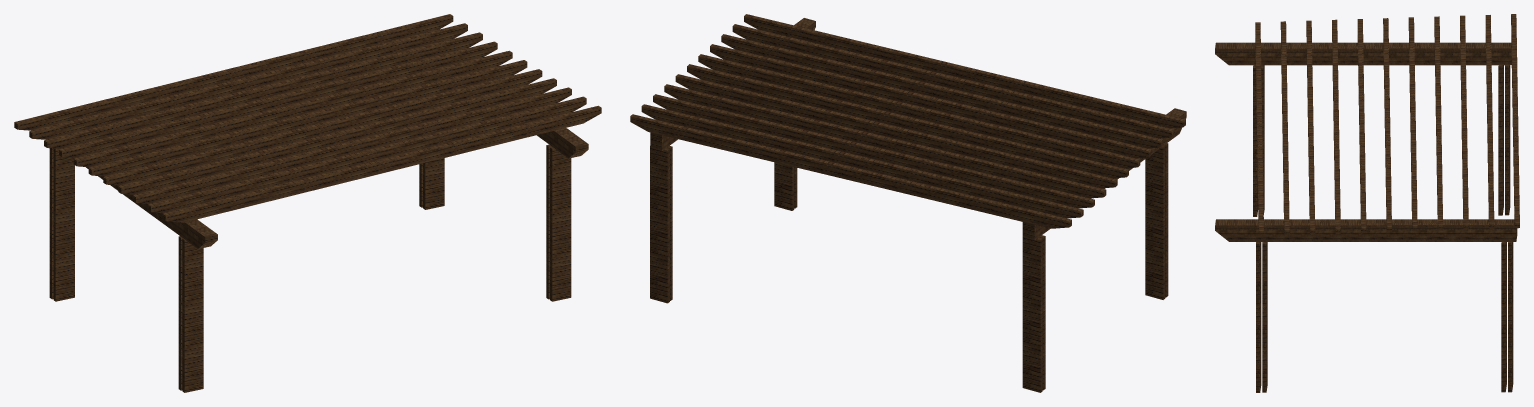
Rendered from LIH0110021.fbx.
The picture shows the model from 3 angles, left to right: view 1: azimuth 30°, elevation 25°; view 2: azimuth 150°, elevation 25°; view 3: azimuth 270°, elevation 25°; orthographic projection. The views are drawn at different scales.
Parts seen in each view (by area): view 1: smLIH0110021; view 2: smLIH0110021; view 3: smLIH0110021.
Boxes of the visible parts, x1=… form: smLIH0110021: x1=14, y1=14, x2=601, y2=392; smLIH0110021: x1=630, y1=14, x2=1186, y2=392; smLIH0110021: x1=1215, y1=14, x2=1519, y2=392.
Size of the model in its own units: 1048 by 399 by 622.
Materials: 1 (1 with a texture image).
